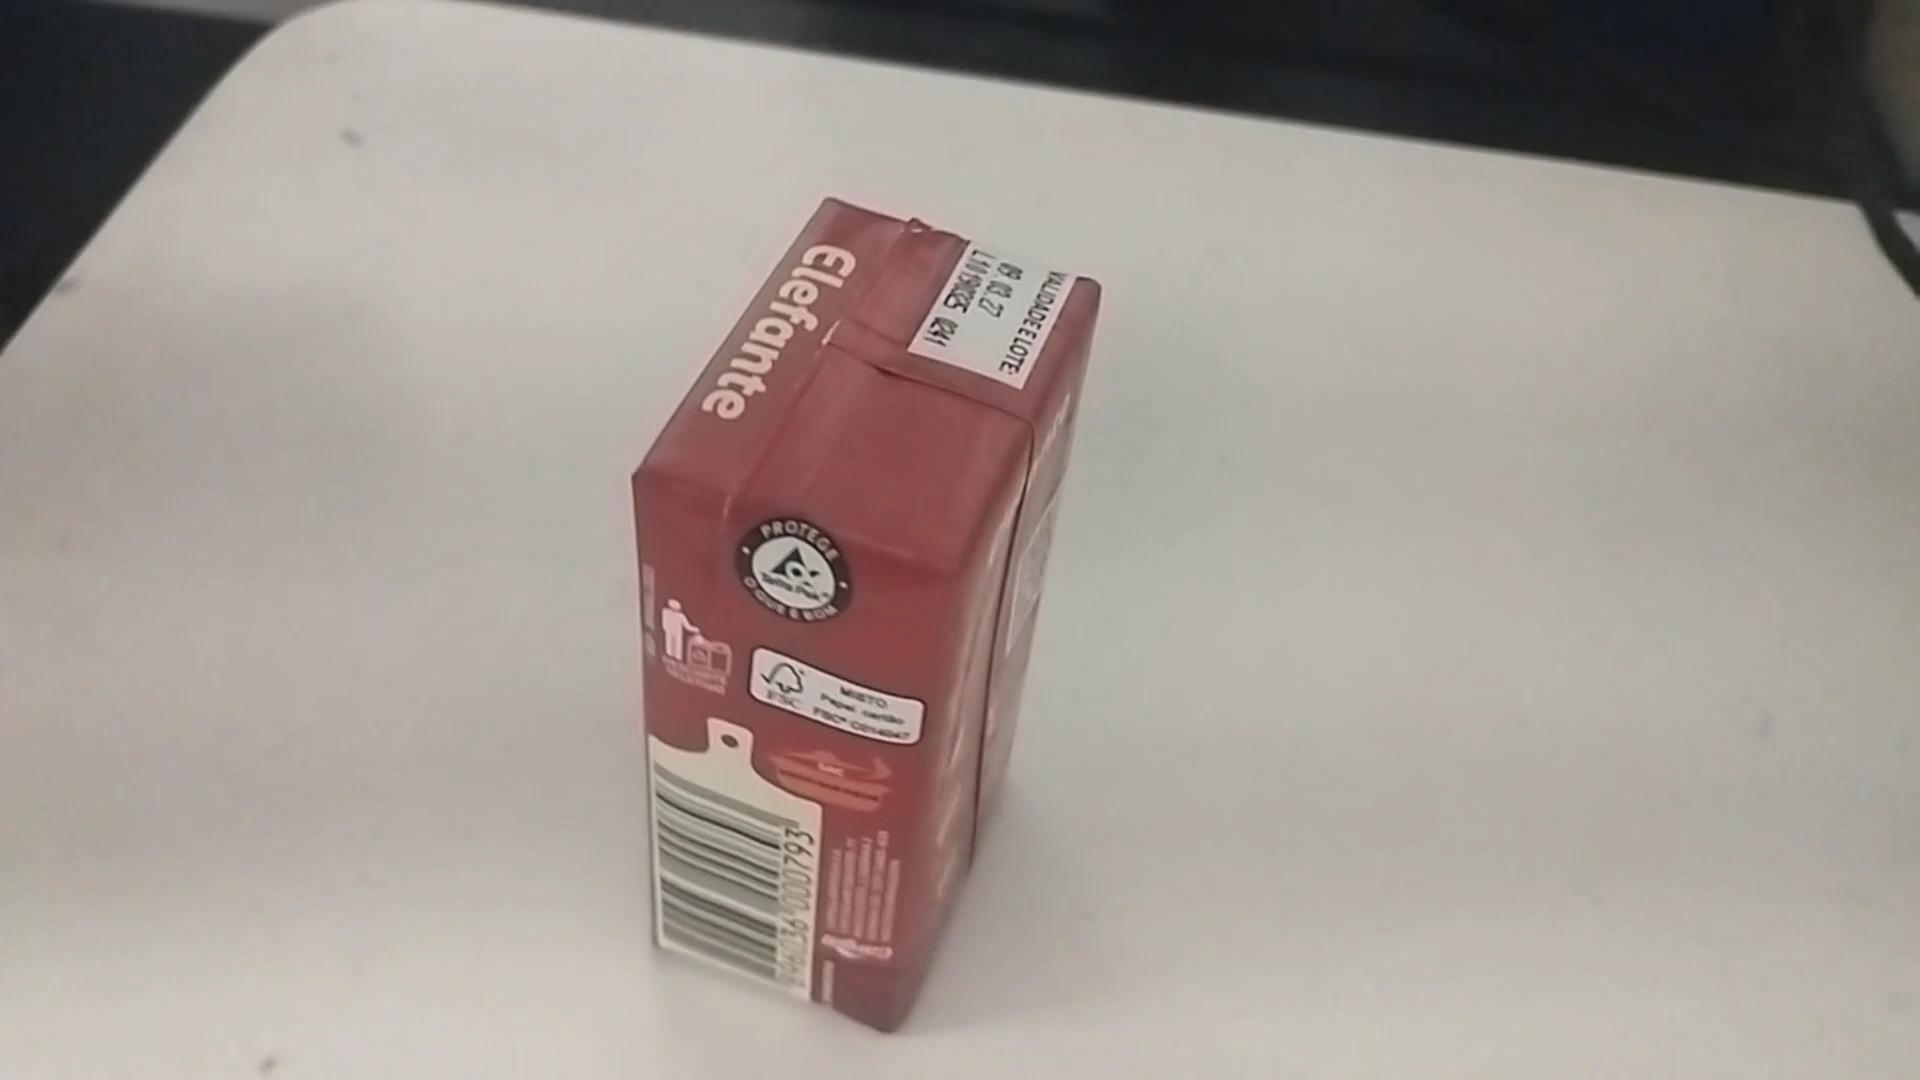tomate: (611, 175, 1122, 1031)
